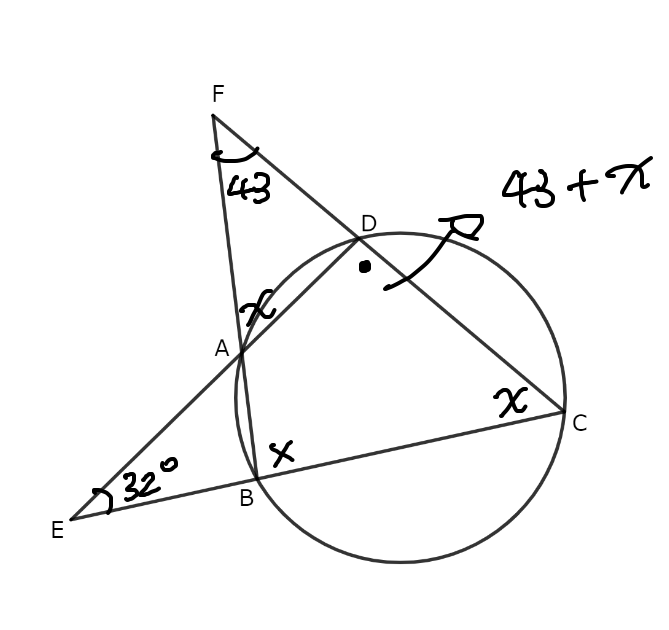Angle_Point: (344, 251, 375, 277)
Angle_Scurve: (202, 141, 263, 163), (89, 481, 115, 520)
Angle_x: (263, 431, 299, 476)
